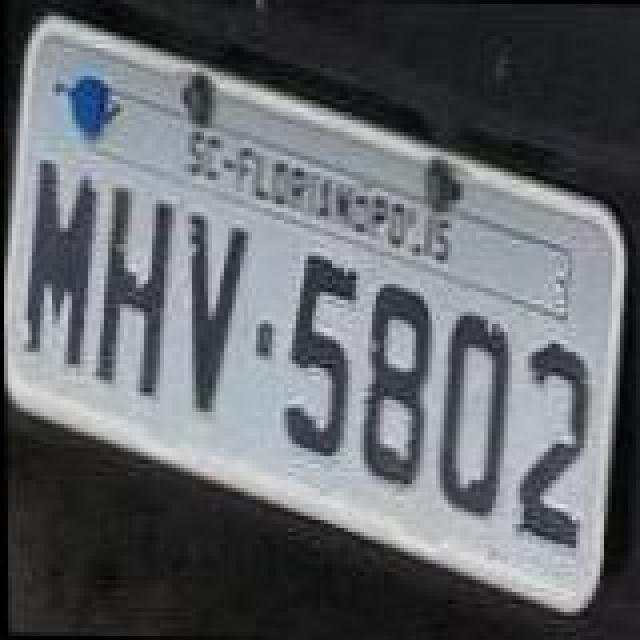2: (508, 336, 596, 552)
5: (278, 254, 362, 458)
8: (354, 284, 434, 488)
H: (88, 186, 176, 398)
M: (18, 158, 102, 370)
O: (434, 310, 514, 518)
V: (184, 210, 256, 418)
